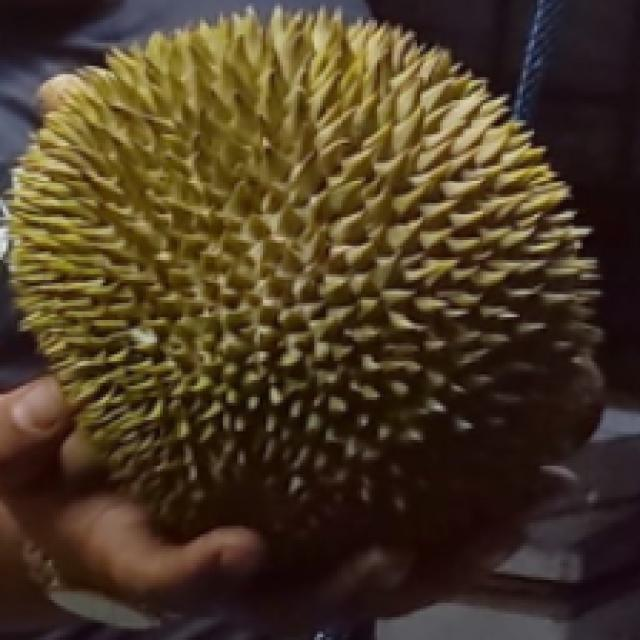d24: (25, 61, 584, 531)
